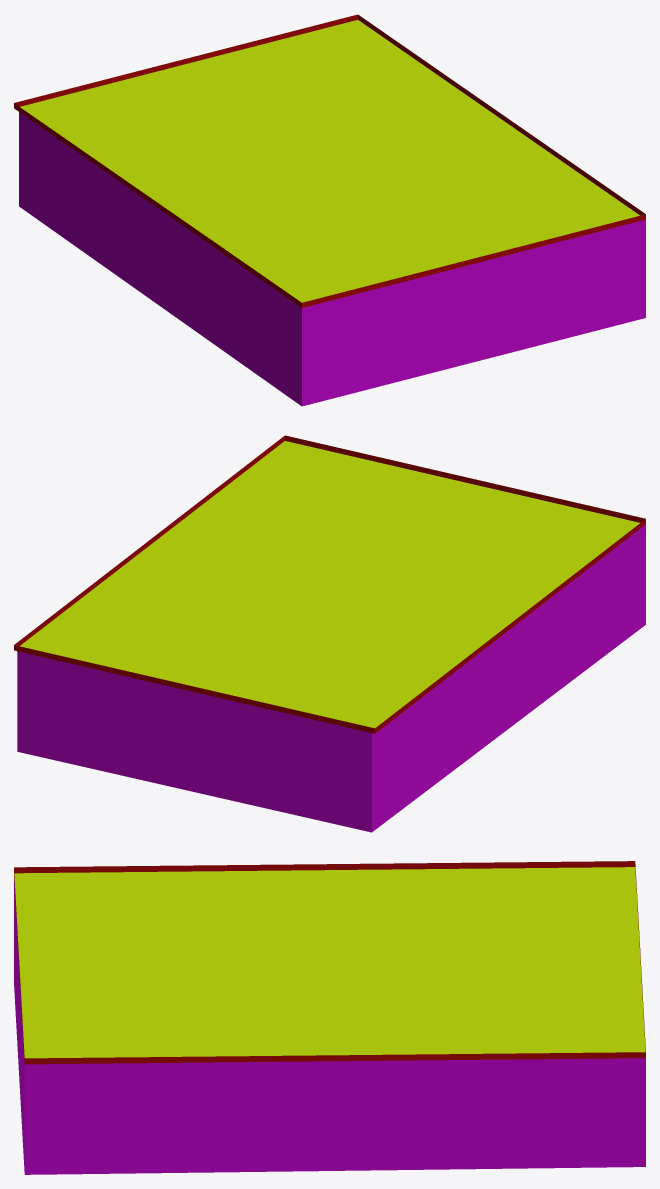
Rendered from garage_anthracite.glb.
3 renders of one model, top to bottom at view 1: azimuth 30°, elevation 25°; view 2: azimuth 150°, elevation 25°; view 3: azimuth 270°, elevation 25°, orthographic. The views are drawn at different scales.
Parts seen in each view (by area): view 1: garage_anthracite; view 2: garage_anthracite; view 3: garage_anthracite.
Boxes of the visible parts, x1,y1,x2,y2 form: garage_anthracite: (14,14,645,406); garage_anthracite: (14,435,645,832); garage_anthracite: (14,861,645,1174).
Bounding box in the file's own units: 24.78 × 6.82 × 33.54.
